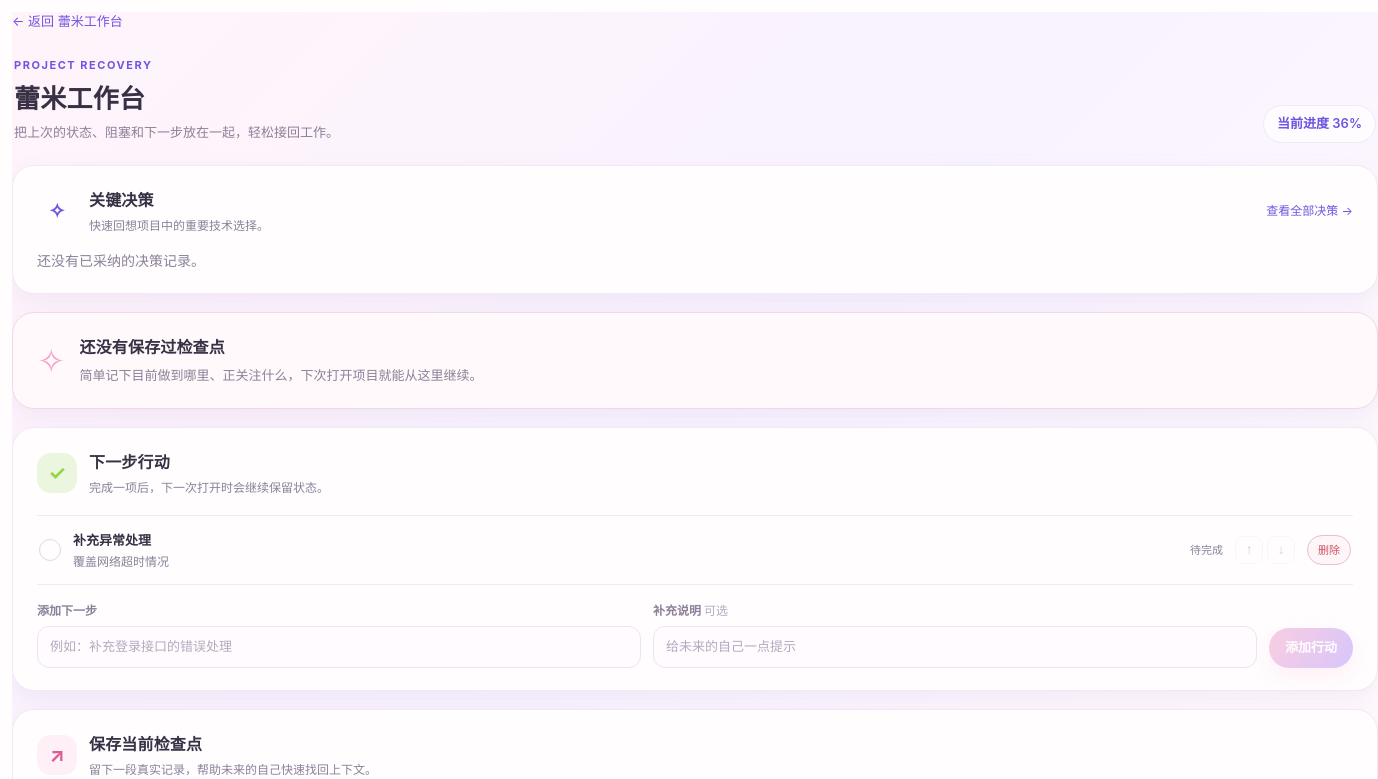
Test: RecoveryView › deletes an action after confirmation and updates the list
Click the button with aria-label "删除行动：补充异常处理" at (1329, 550), box [1307,535,1351,565]
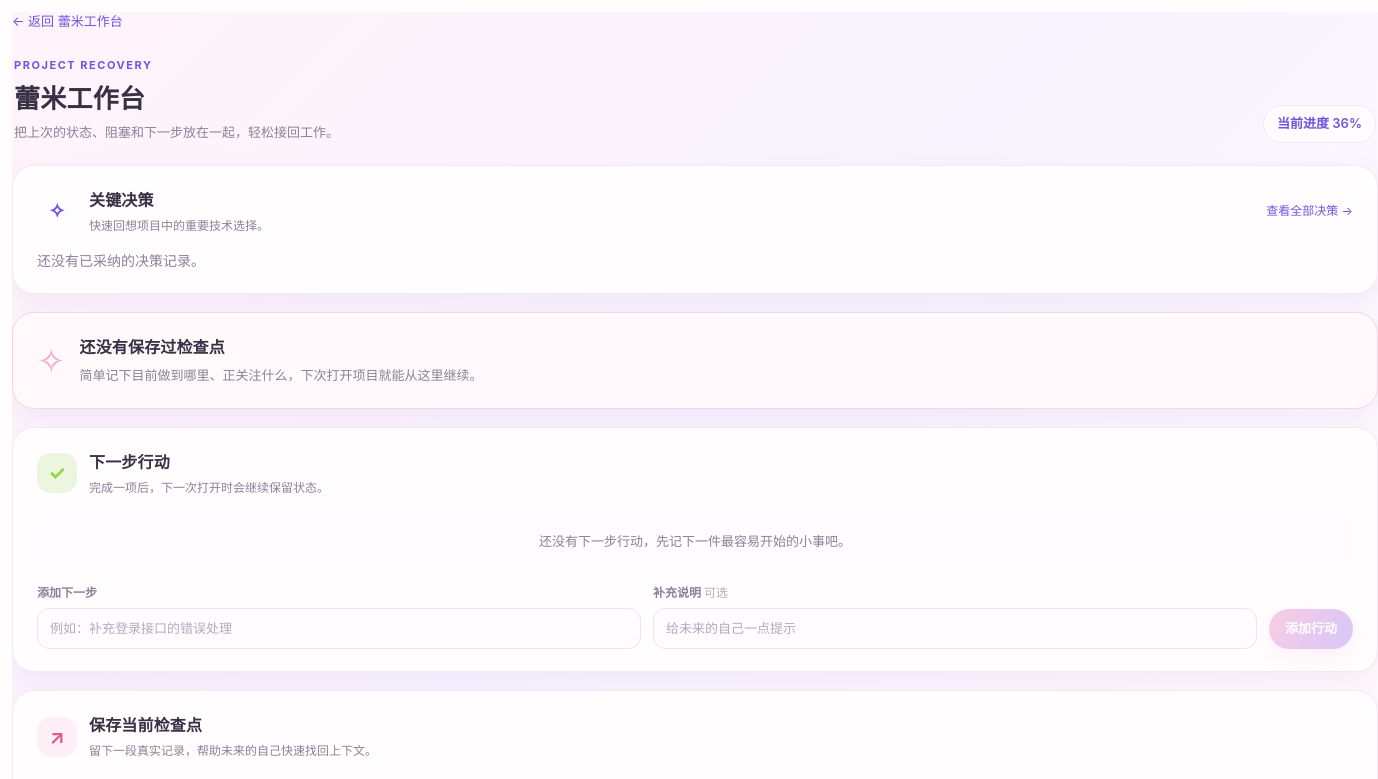
Now the text "还没有下一步行动" is shown, box [539,533,851,549]
